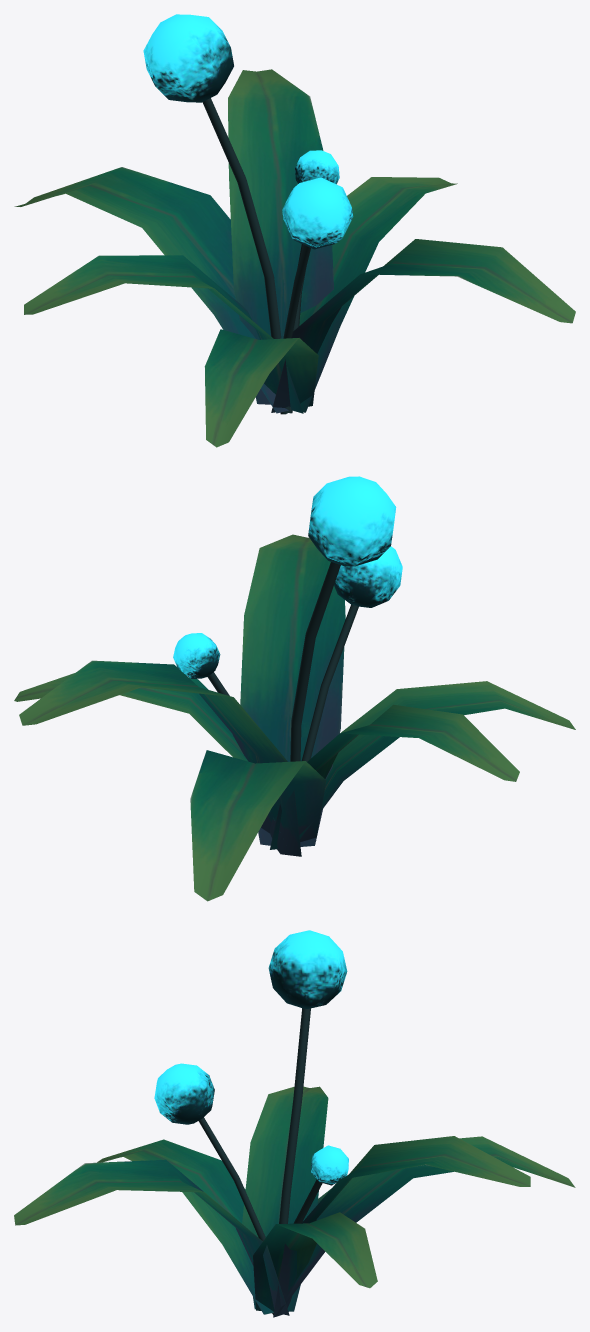
File: BlueLightFlower.gltf
The picture shows the model from 3 angles, top to bottom: view 1: azimuth 30°, elevation 25°; view 2: azimuth 150°, elevation 25°; view 3: azimuth 270°, elevation 25°; orthographic projection. The views are drawn at different scales.
Parts seen in each view (by area): view 1: Flow1_glowing_plants_0.001; view 2: Flow1_glowing_plants_0.001; view 3: Flow1_glowing_plants_0.001.
Part boxes in pixels (x1,y1,x2,y2): Flow1_glowing_plants_0.001: [14, 14, 575, 447]; Flow1_glowing_plants_0.001: [14, 476, 575, 901]; Flow1_glowing_plants_0.001: [14, 930, 575, 1317].
Size of the model in its own units: 3.15 by 2.62 by 3.85.
1 material, 1 textured.
